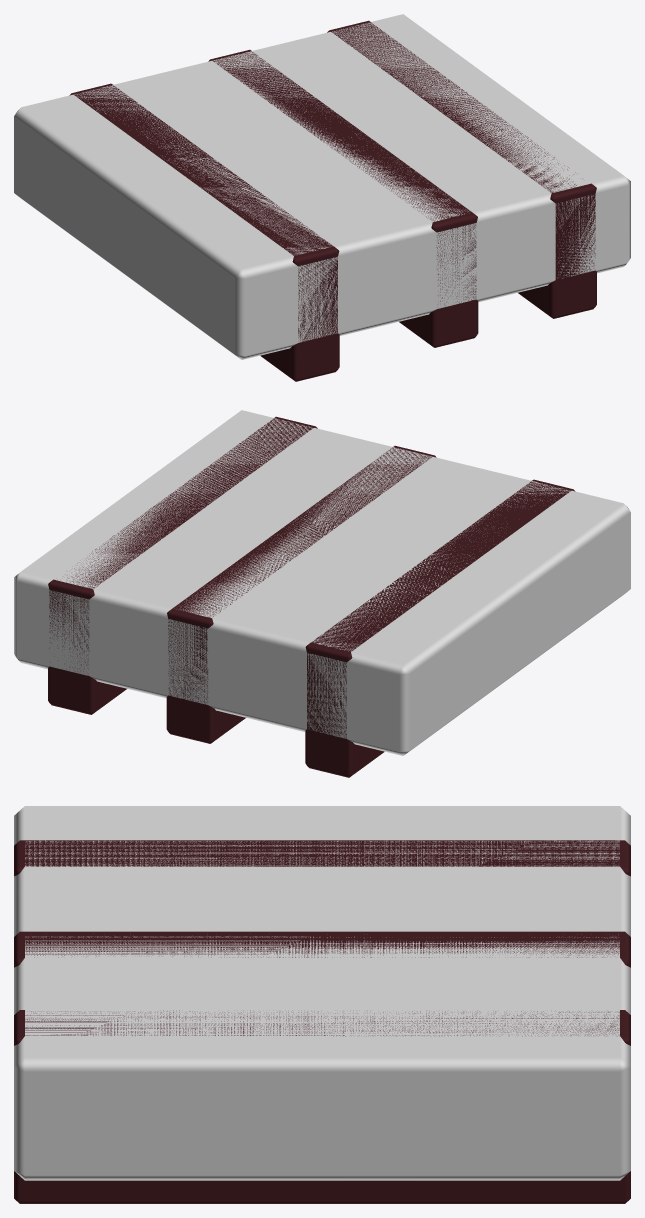
File: living-cave-bridge-deck.eb9531e5.glb
3 views of the same model, one above another, from view 1: azimuth 30°, elevation 25°; view 2: azimuth 150°, elevation 25°; view 3: azimuth 270°, elevation 25° (orthographic). The views are drawn at different scales.
Parts seen in each view (by area): view 1: body; view 2: body; view 3: body.
Boxes of the visible parts, <box> form: body: <box>14,14,630,381</box>; body: <box>14,410,630,777</box>; body: <box>14,806,630,1203</box>.
Size of the model in its own units: 1 by 0.3 by 1.
